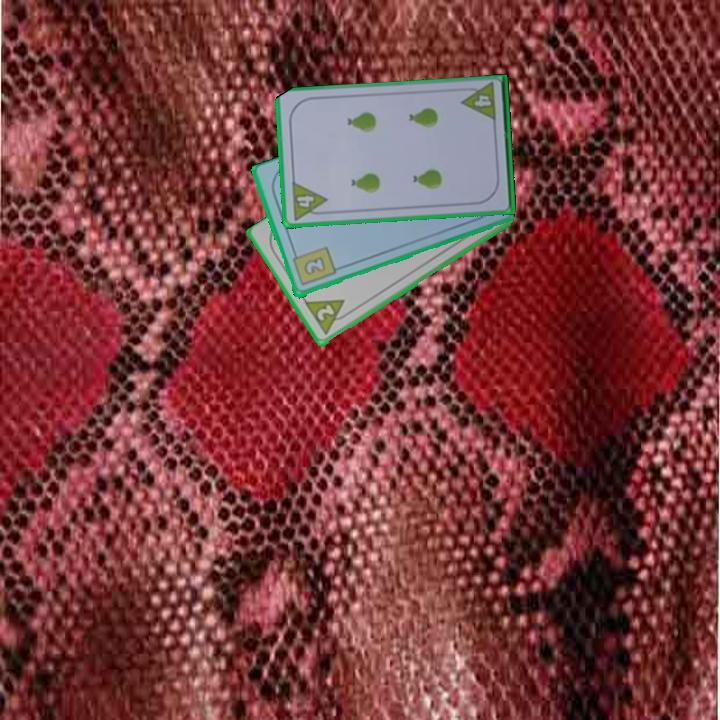2b: (289, 243, 338, 289)
2p: (301, 296, 354, 338)
4p: (288, 178, 330, 223), (458, 80, 499, 125)
